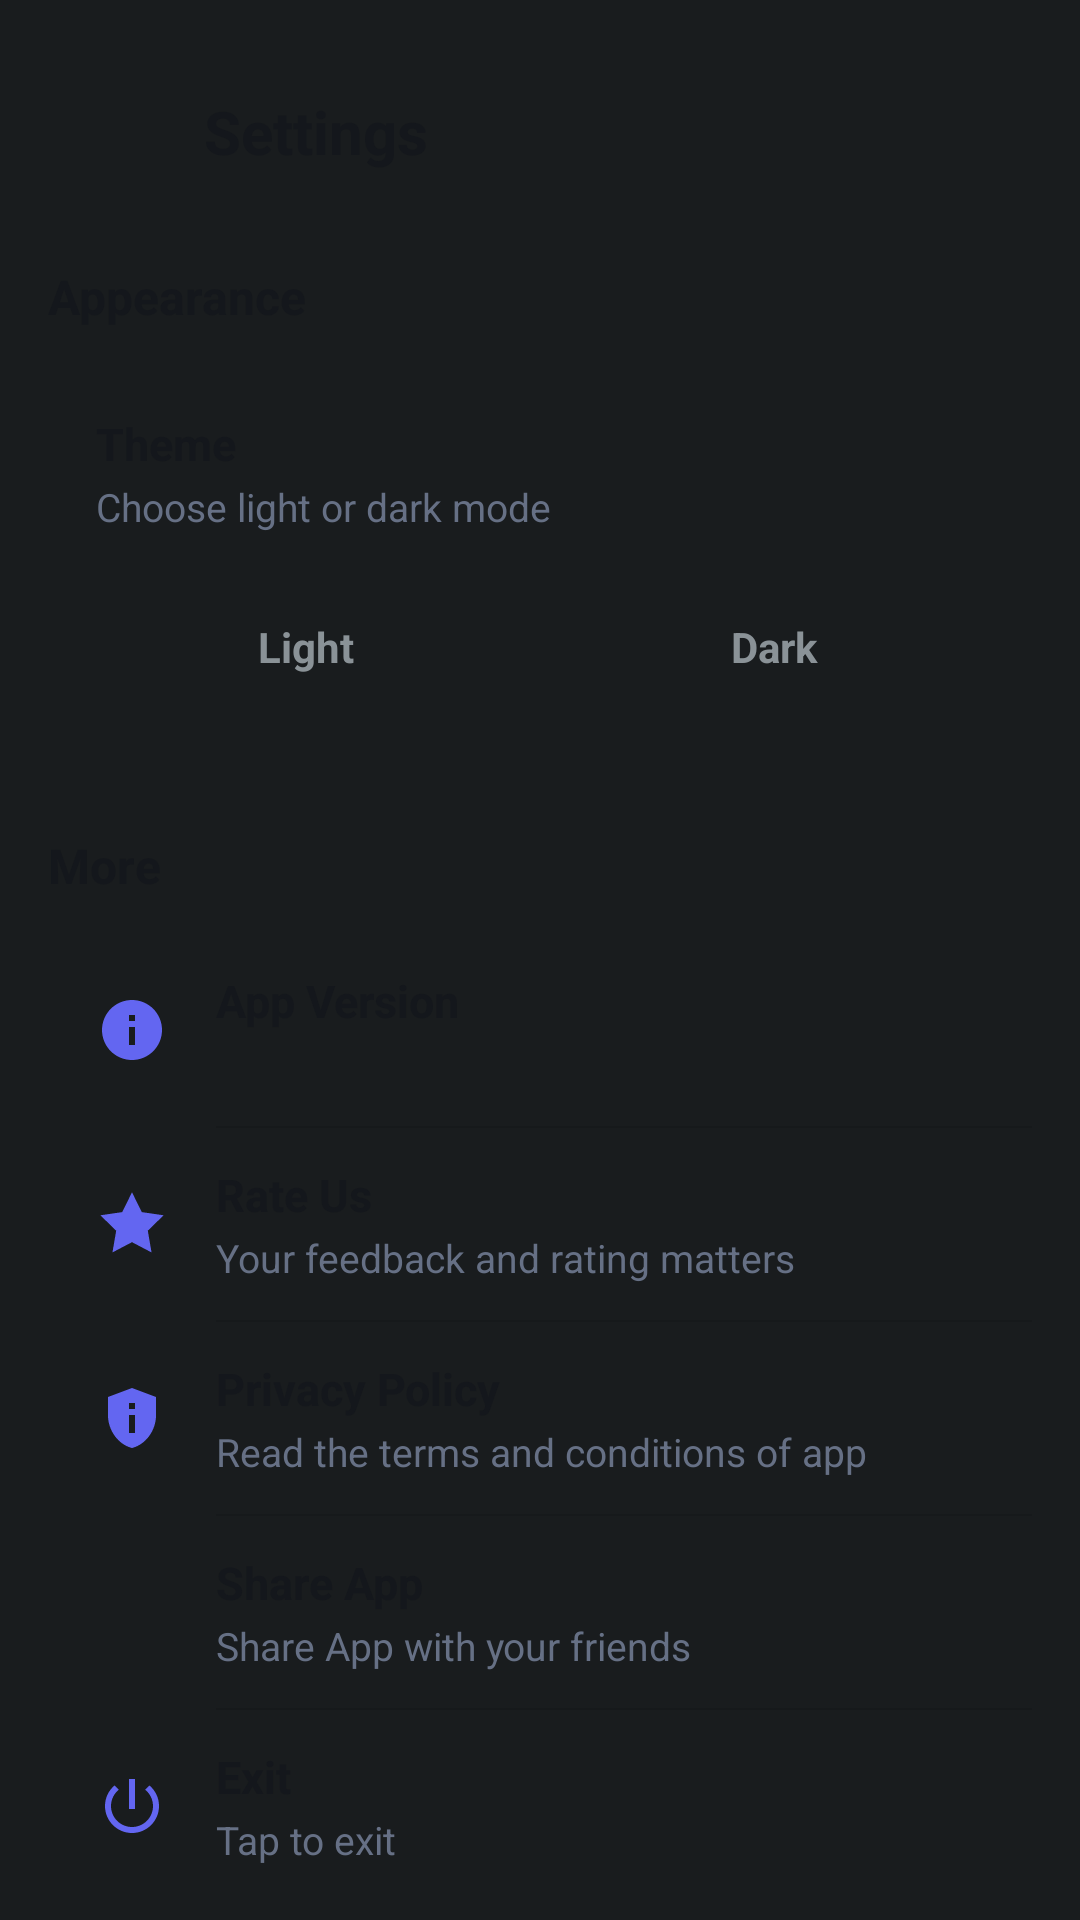

Locate icon controls on the screen. Image size 1080*1920, boxes as box(x1, y1, x2, y2).
info: box(102, 1000, 162, 1060)
privacy tip: box(108, 1388, 156, 1448)
star: box(100, 1192, 164, 1253)
